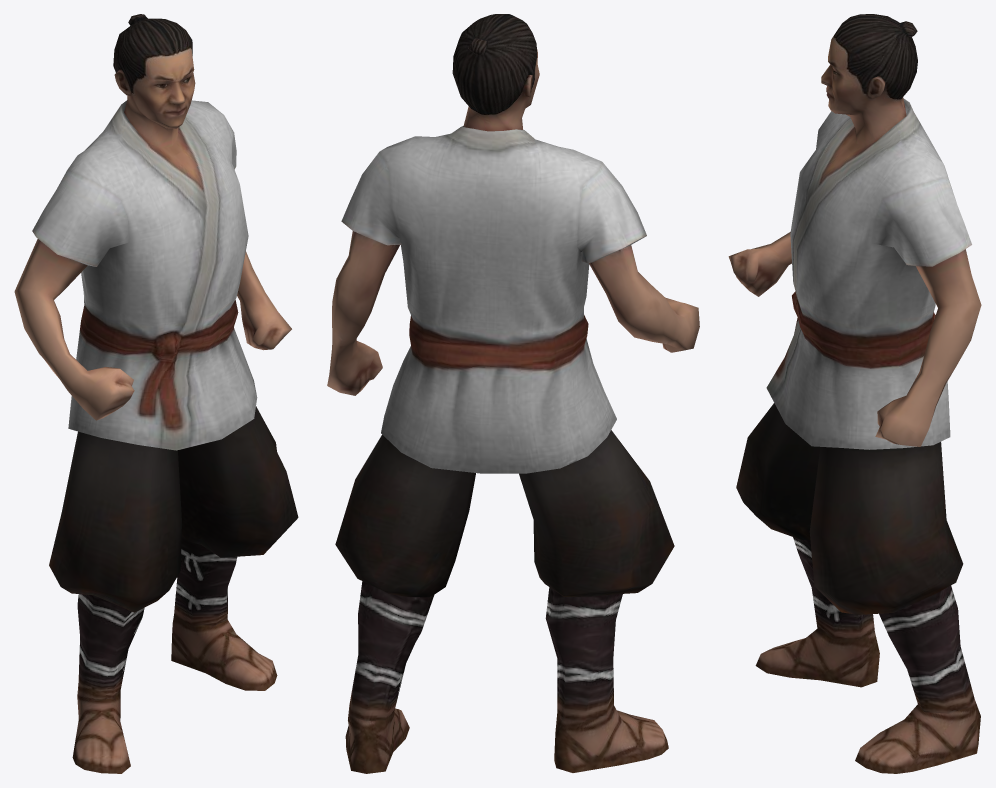
The model's file is body-base.glb.
3 renders of one model, left to right at view 1: azimuth 30°, elevation 25°; view 2: azimuth 150°, elevation 25°; view 3: azimuth 270°, elevation 25°, orthographic. The views are drawn at different scales.
Bounding box in the file's own units: 0.8818 × 2.03 × 0.6693.
Materials: 1 (1 with a texture image).
